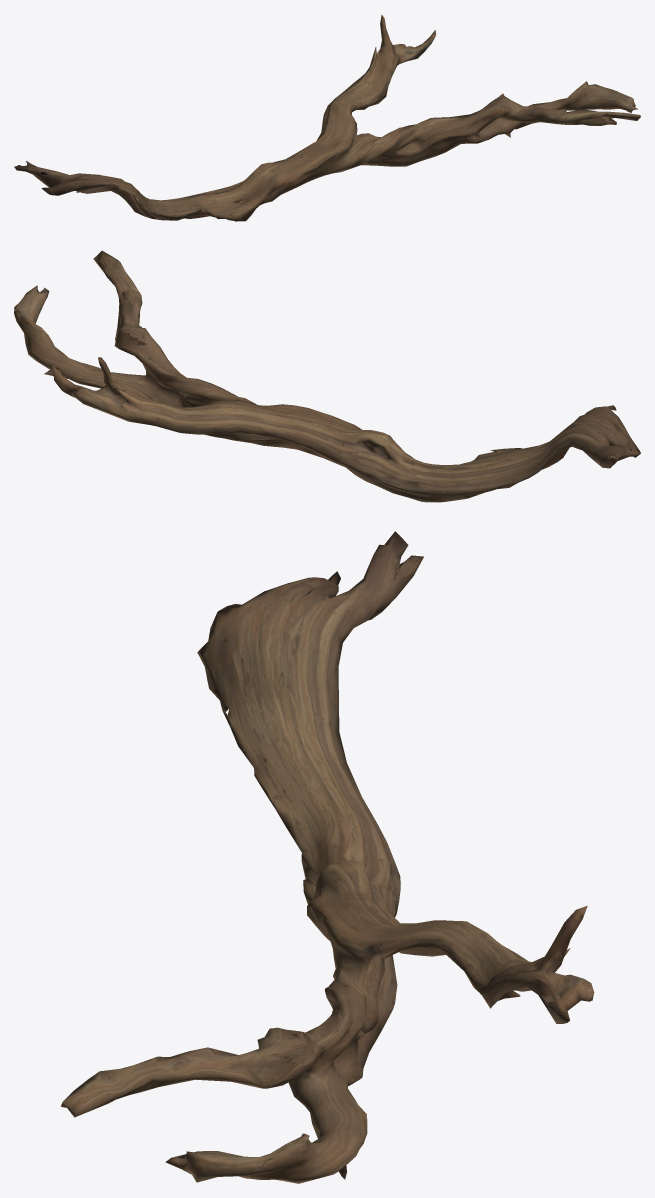
Rendered from driftwood.glb.
3 renders of one model, top to bottom at view 1: azimuth 30°, elevation 25°; view 2: azimuth 150°, elevation 25°; view 3: azimuth 270°, elevation 25°, orthographic. The views are drawn at different scales.
Parts seen in each view (by area): view 1: driftwood; view 2: driftwood; view 3: driftwood.
Boxes of the visible parts, x1,y1,x2,y2 form: driftwood: (14,15,640,221); driftwood: (14,250,640,502); driftwood: (61,531,594,1183).
Bounding box in the file's own units: 1.6 × 0.2877 × 0.6464.
1 material, 1 textured.
